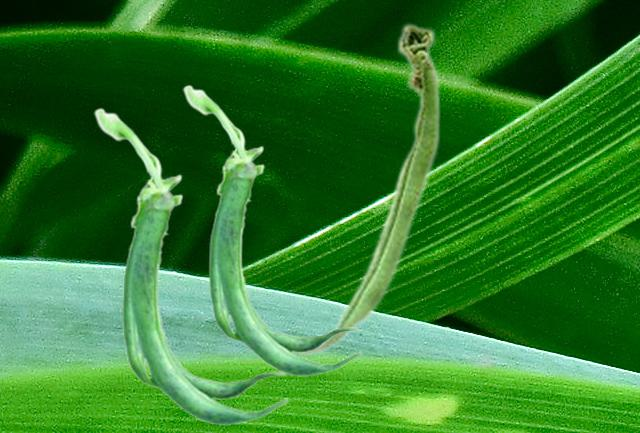french_bean: (93, 107, 288, 425), (182, 84, 361, 376), (298, 21, 440, 356)
